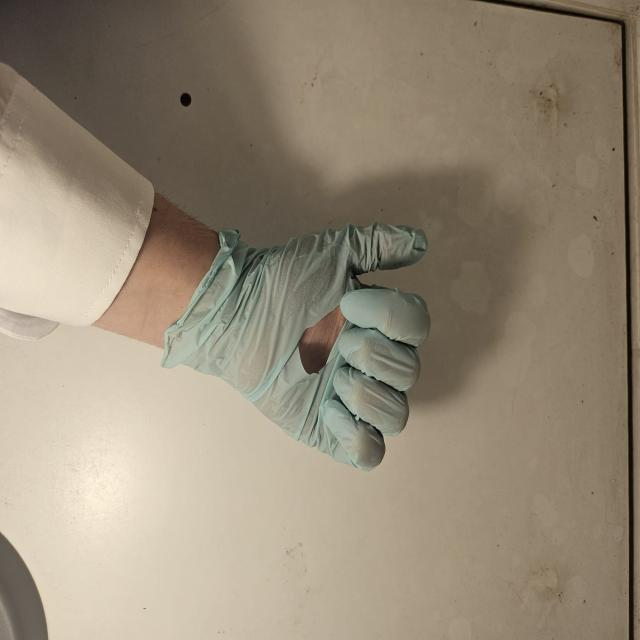gloves_damaged: (158, 217, 434, 470)
